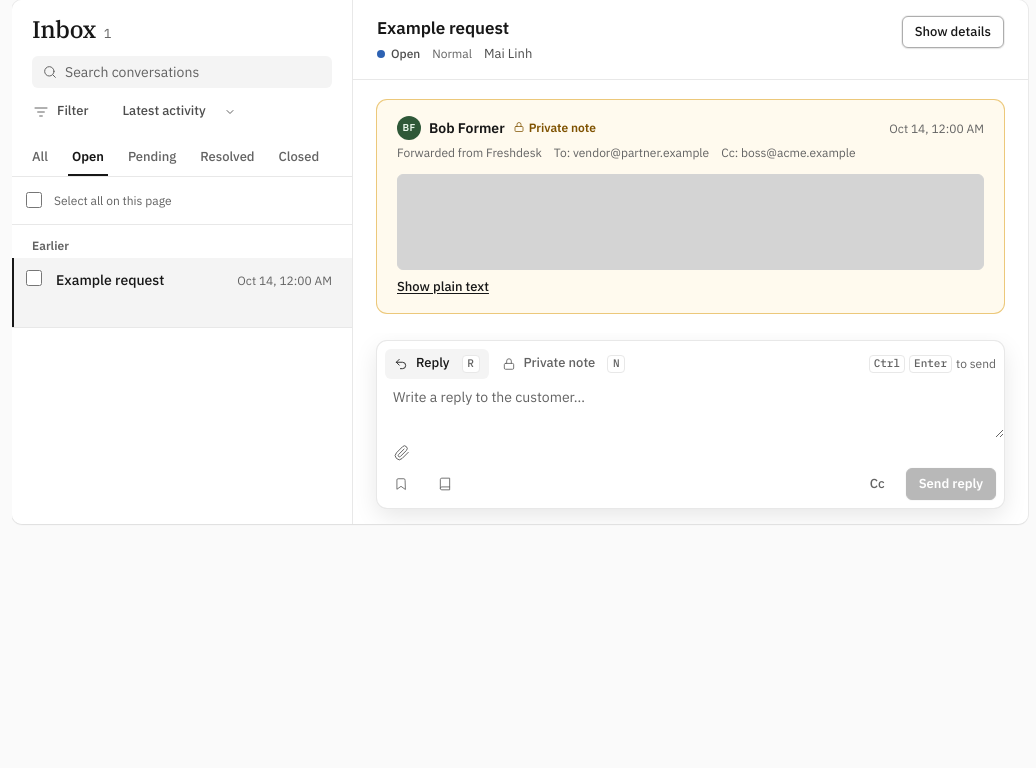
Test: shows imported HTML by default, only inside a sandboxed frame that runs nothing and loads nothing directly
The width and height of the screenshot is (1036, 768).
Click the button "Show plain text": click(443, 287) [397,278,489,297]
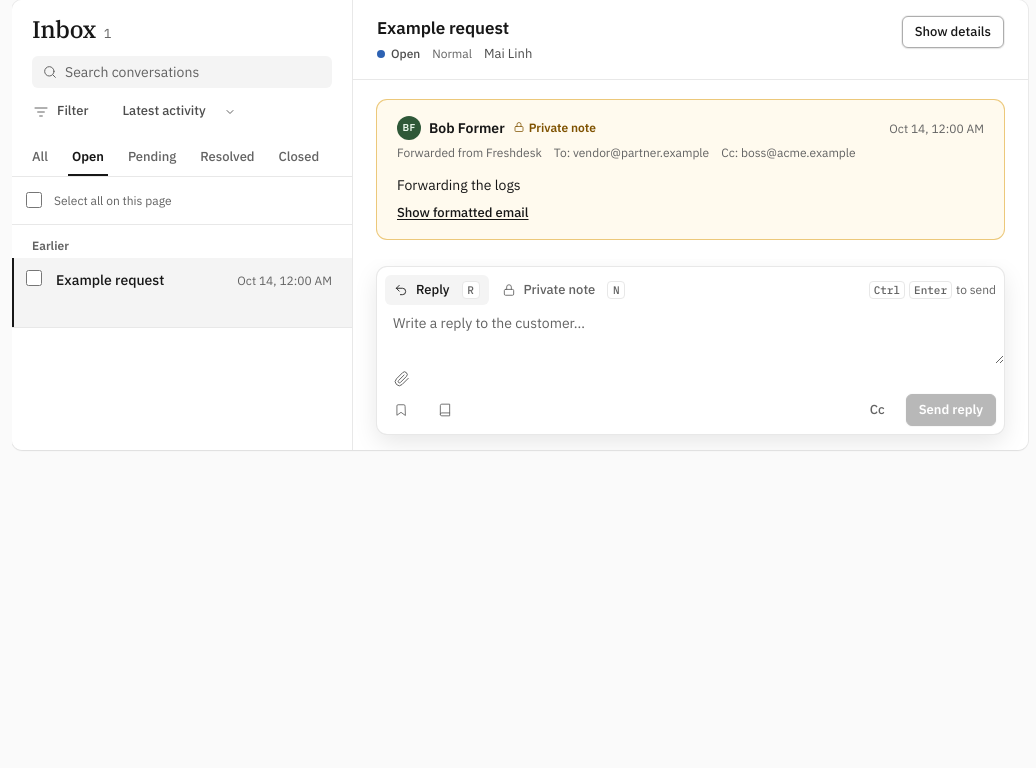
Check: the text "Forwarding the logs" is shown, box [397,176,521,194]
